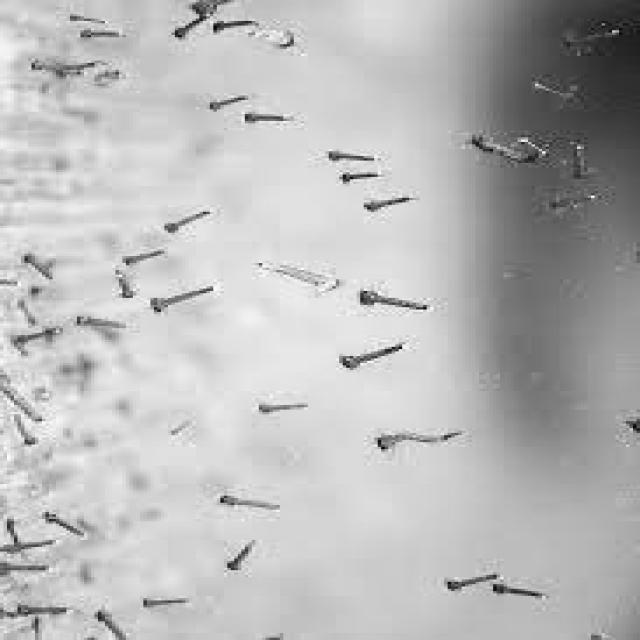larvas: (477, 131, 546, 165), (150, 282, 215, 312), (378, 429, 468, 450), (0, 376, 42, 421), (341, 339, 403, 367), (360, 287, 425, 312), (566, 135, 596, 179), (529, 76, 579, 102), (7, 408, 41, 444), (13, 324, 60, 348), (94, 607, 128, 640), (39, 59, 104, 76), (50, 508, 88, 537), (553, 191, 600, 213), (561, 29, 621, 46), (164, 210, 208, 233), (0, 538, 56, 556), (206, 15, 260, 32), (220, 495, 277, 511), (170, 14, 206, 39), (448, 572, 498, 590), (164, 417, 197, 444), (494, 584, 547, 600), (0, 563, 53, 579), (365, 193, 407, 212), (228, 539, 255, 568), (122, 248, 168, 264), (7, 522, 29, 555), (80, 312, 124, 328), (338, 168, 378, 185), (113, 272, 137, 299), (210, 93, 243, 111), (333, 150, 375, 164), (26, 255, 50, 279), (18, 302, 41, 326), (21, 604, 67, 616), (259, 403, 308, 414), (196, 0, 228, 16), (140, 596, 185, 607), (245, 113, 294, 123), (70, 12, 105, 25), (80, 28, 122, 38), (0, 274, 17, 290), (622, 420, 640, 435)
